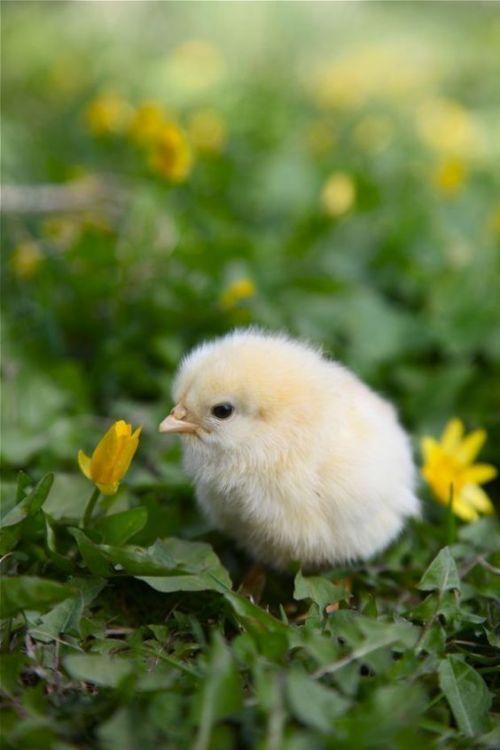chicken: (160, 330, 418, 567)
